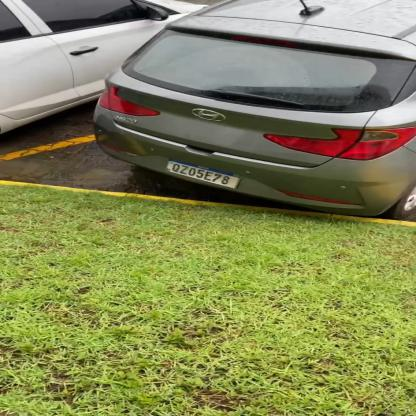Plate: (163, 156, 243, 194)
